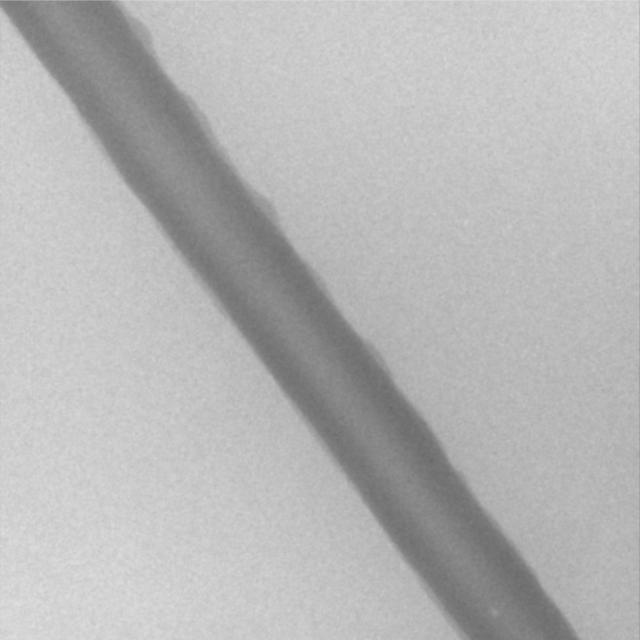air hole: (488, 608, 499, 620)
